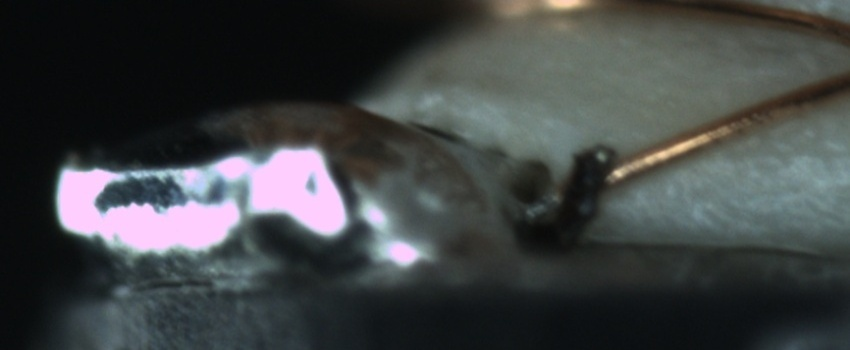DL: (702, 121, 850, 185)
